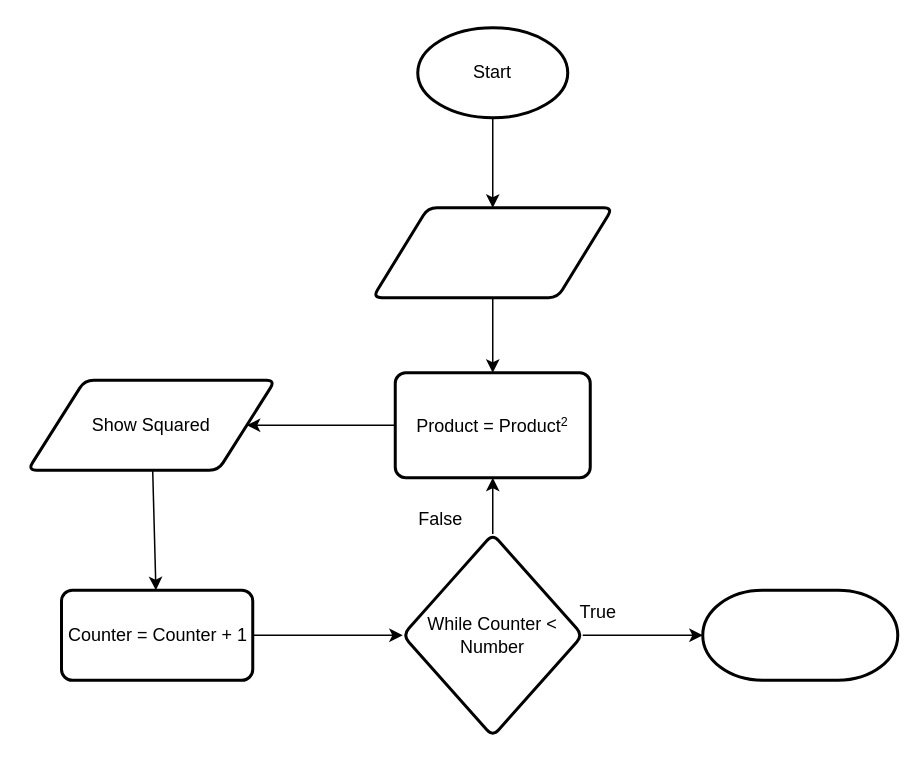
Some shapes in this 924 by 764 pixel diagram are drawn without their labels. Here are the shapes that lost their labels. From the top down, the centre of each, then its label:
(492,252): Get Number
(799,634): Stop
